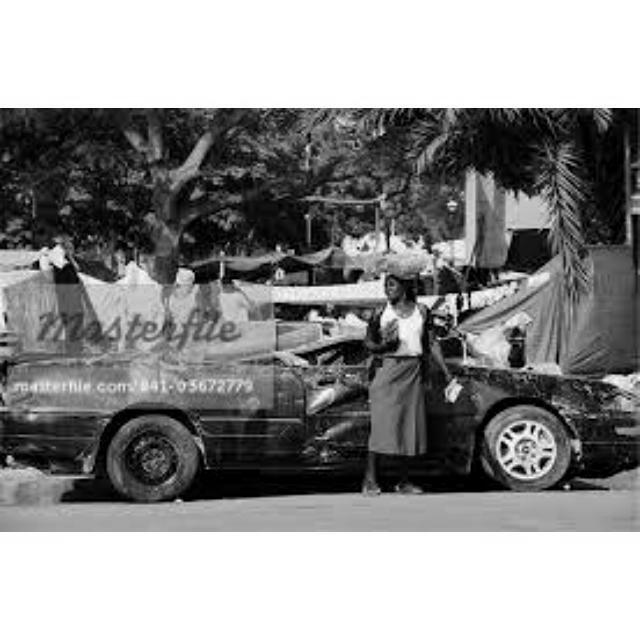doorouter-dent: (306, 363, 368, 455)
fender-dent: (472, 364, 585, 419)
